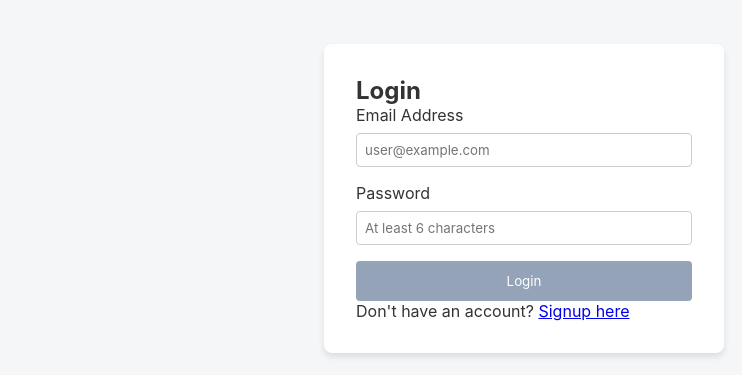
Authentication Flow and Asynchronous Tests › handles asynchronous login and redirects to Dashboard
Type "user@test.com" into the field labelled "Email Address".
click(524, 150); type("user@test.com")  # box x1=356 y1=133 x2=692 y2=167
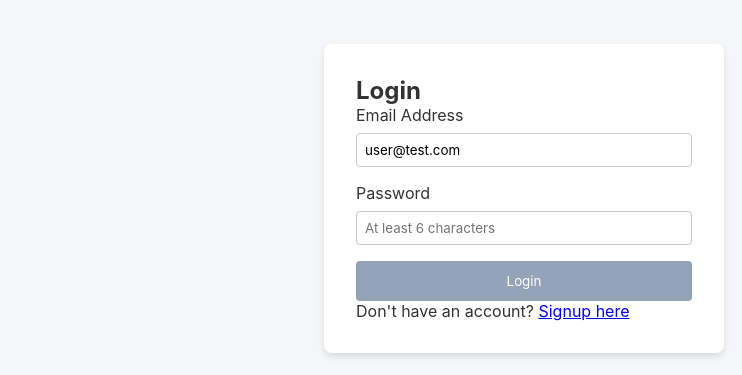
Type "secret123" into the password field labelled "Password".
click(524, 228); type("secret123")  # box x1=356 y1=211 x2=692 y2=245
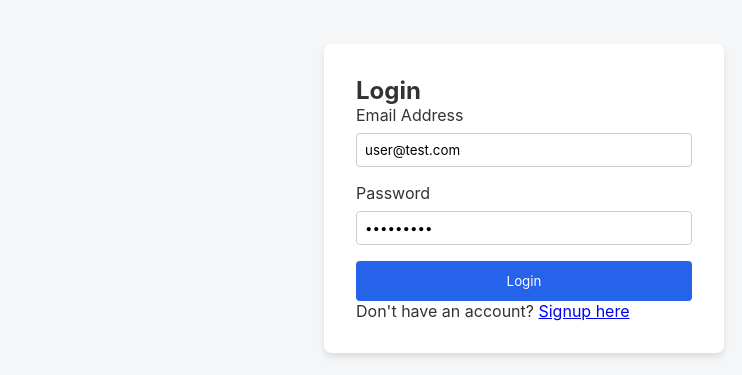
Click the button "Login".
click(524, 281)  # box x1=356 y1=261 x2=692 y2=301
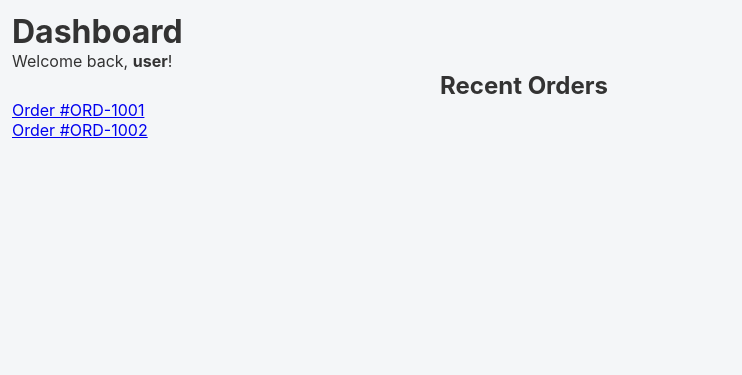
Expected: the heading "Dashboard" is shown, x1=12 y1=12 x2=183 y2=51
Expected: the text "user" is shown, x1=133 y1=51 x2=168 y2=71
